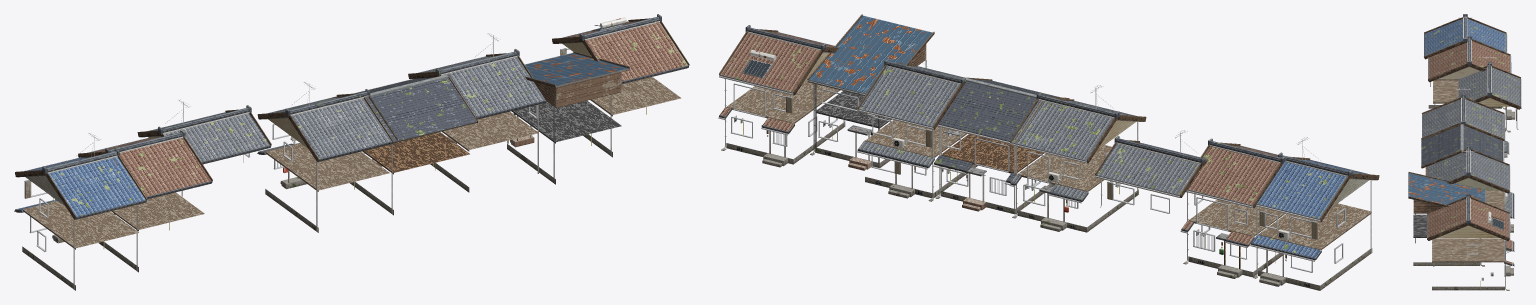
File: lane_far.glb
The picture shows the model from 3 angles, left to right: view 1: azimuth 30°, elevation 25°; view 2: azimuth 150°, elevation 25°; view 3: azimuth 270°, elevation 25°; orthographic projection. The views are drawn at different scales.
Parts seen in each view (by area): view 1: lane_far; view 2: lane_far; view 3: lane_far.
Boxes of the visible parts, box(x1,y1,x2,y2) form: lane_far: box(14, 14, 689, 290); lane_far: box(718, 14, 1379, 290); lane_far: box(1408, 14, 1521, 290).
Bounding box in the file's own units: 47.31 × 9.17 × 11.
1 material, 1 textured.
